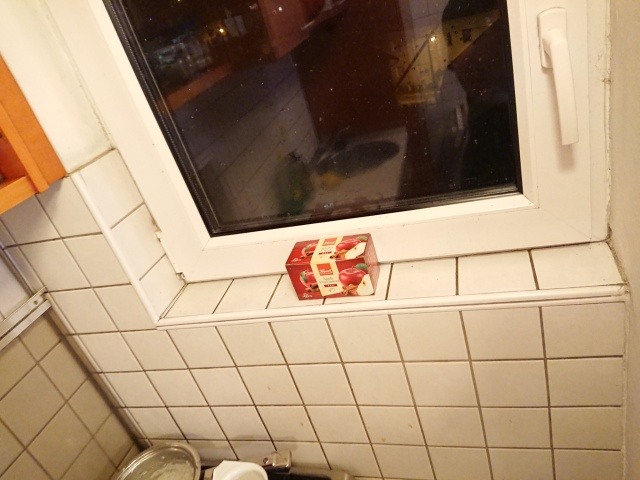Franck Apple Cinnamon Tea 60g: (282, 230, 383, 303)
